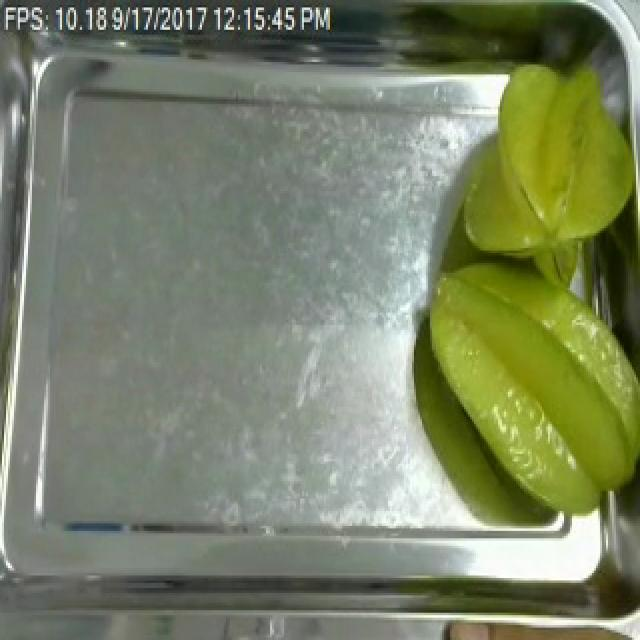fruit: (410, 241, 640, 533), (478, 47, 638, 266)
